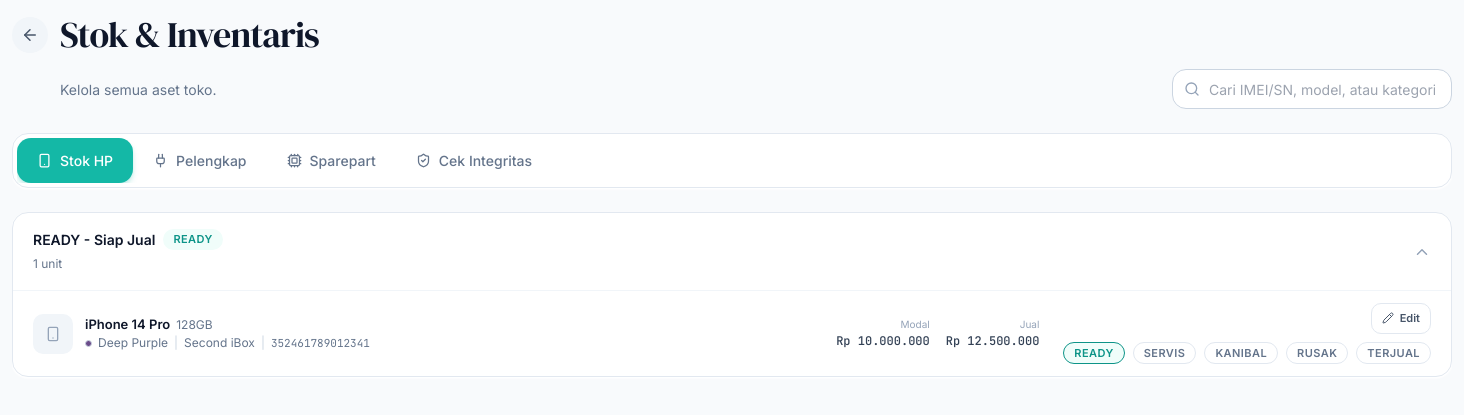
Test: status edit › surfaces an inline error and leaves the status unchanged when the update fails
The width and height of the screenshot is (1464, 415).
Expected: the list item "iPhone 14 Pro" is shown, [85,316,170,332]
Click the radio button labelled "SERVIS": (1165, 353) [1133,342,1196,364]
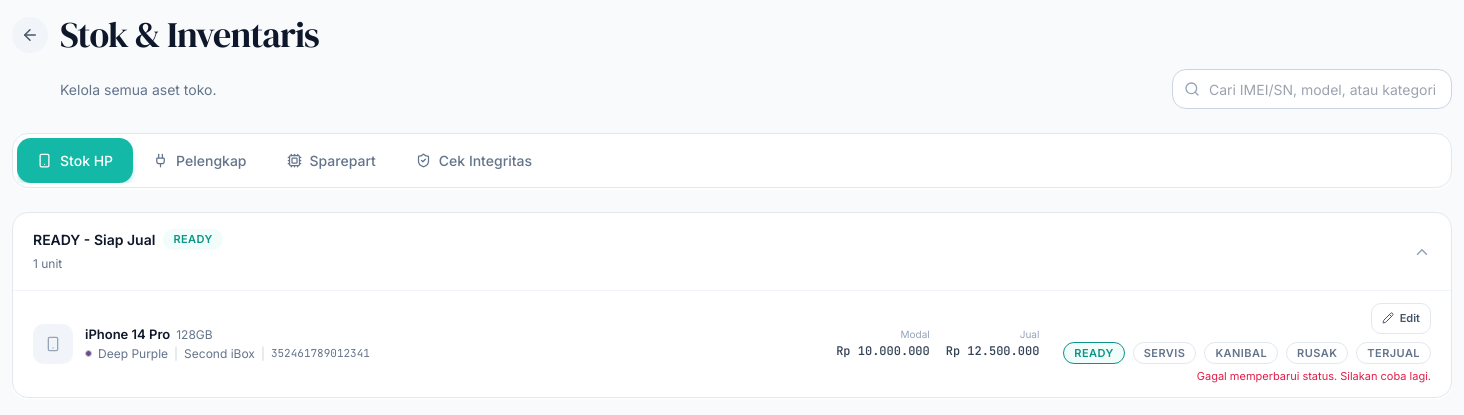
Now the text "Gagal memperbarui status. Silakan coba lagi." is shown, box [1197,369,1431,383]
